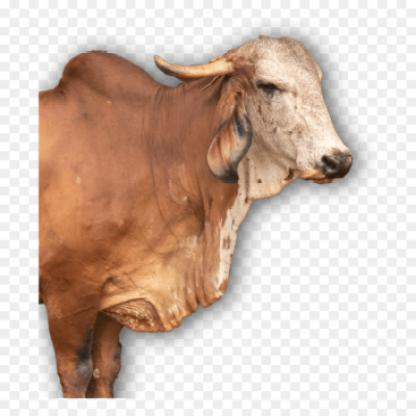lower: (315, 177, 337, 185)
mouth: (296, 142, 354, 184)
upper: (330, 156, 353, 173)
